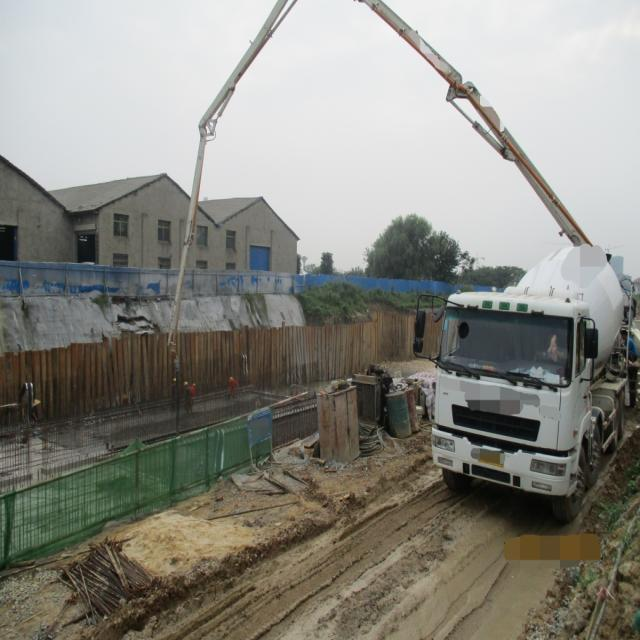truck: (166, 0, 592, 437)
